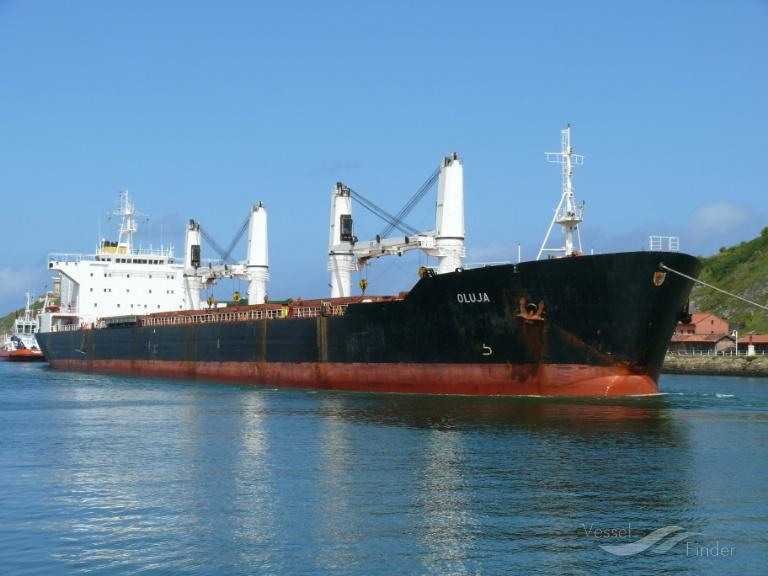OCR: (452, 290, 496, 310)
